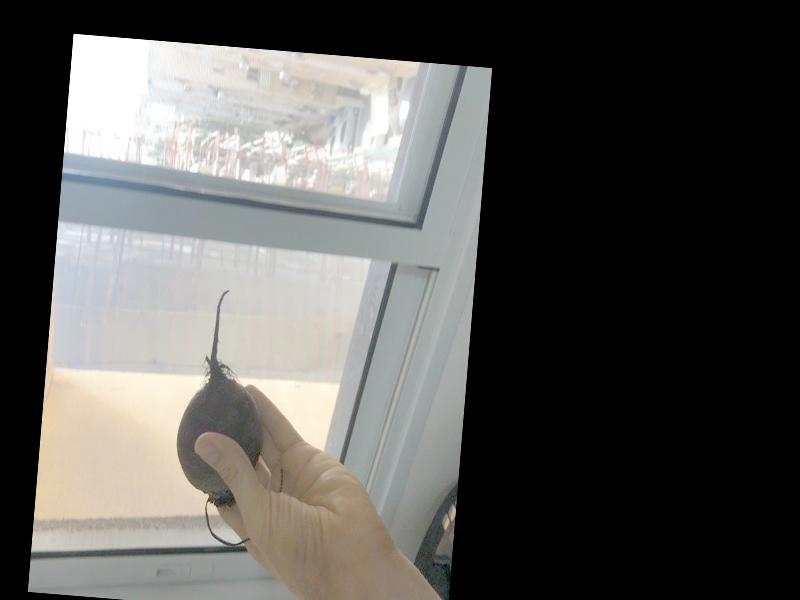Beet: (168, 286, 299, 549)
